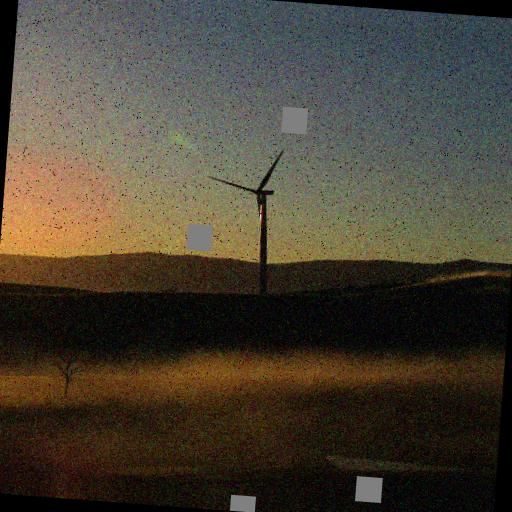wind turbine: (203, 149, 285, 291)
